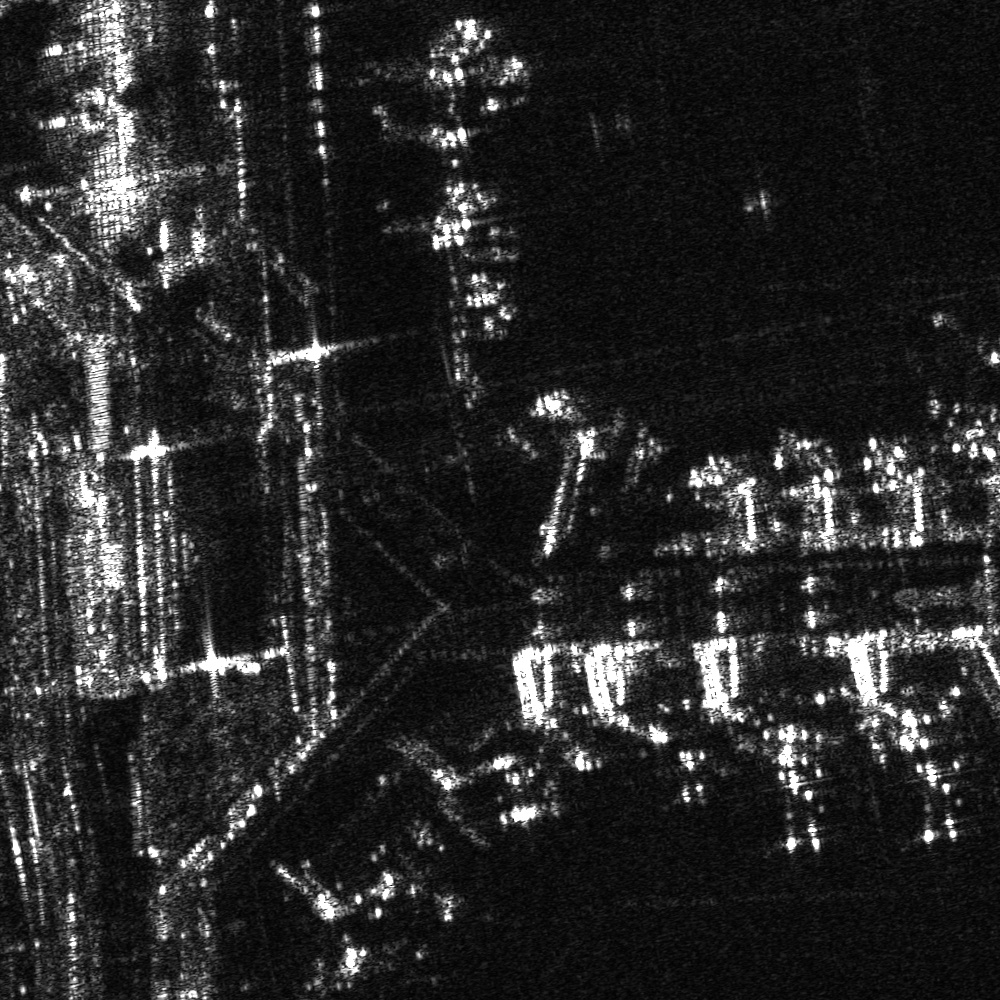A220: (650, 741, 731, 810)
A320/321: (424, 7, 531, 116), (414, 174, 524, 264), (387, 863, 469, 928)
Boeing787: (738, 737, 848, 860)
other: (889, 726, 989, 845)
